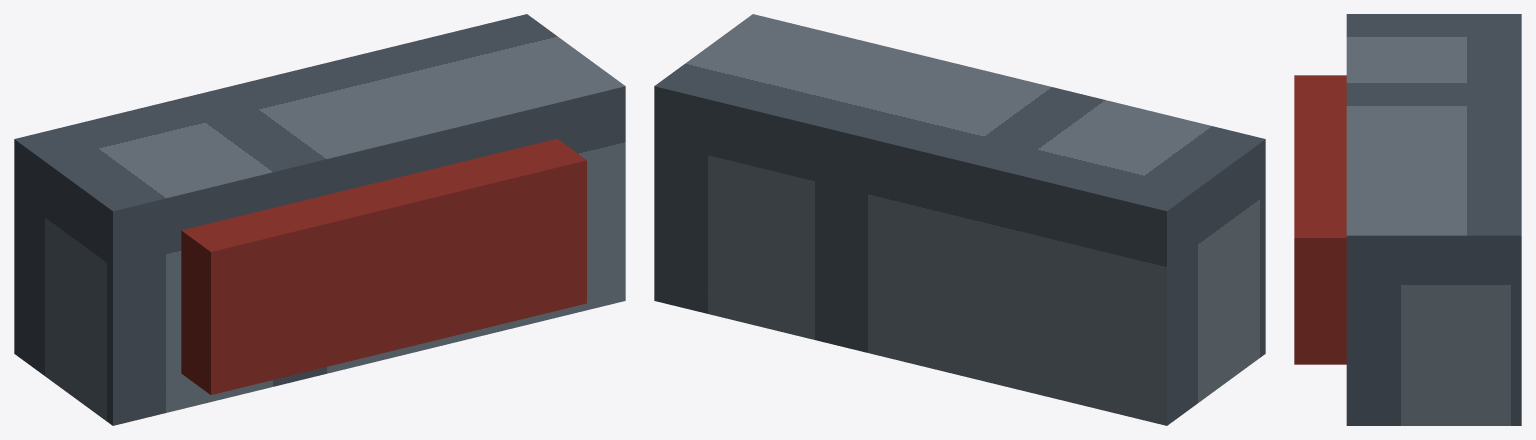
The model's file is emergency_light.glb.
3 renders of one model, left to right at view 1: azimuth 30°, elevation 25°; view 2: azimuth 150°, elevation 25°; view 3: azimuth 270°, elevation 25°, orthographic. The views are drawn at different scales.
Visible parts, largest first — view 1: emergency_light mesh; view 2: emergency_light mesh; view 3: emergency_light mesh.
Boxes of the visible parts, x1=… form: emergency_light mesh: x1=14, y1=14, x2=625, y2=425; emergency_light mesh: x1=654, y1=14, x2=1265, y2=425; emergency_light mesh: x1=1294, y1=14, x2=1521, y2=425.
Size of the model in its own units: 0.3 by 0.12 by 0.13.
2 materials, 2 textured.
